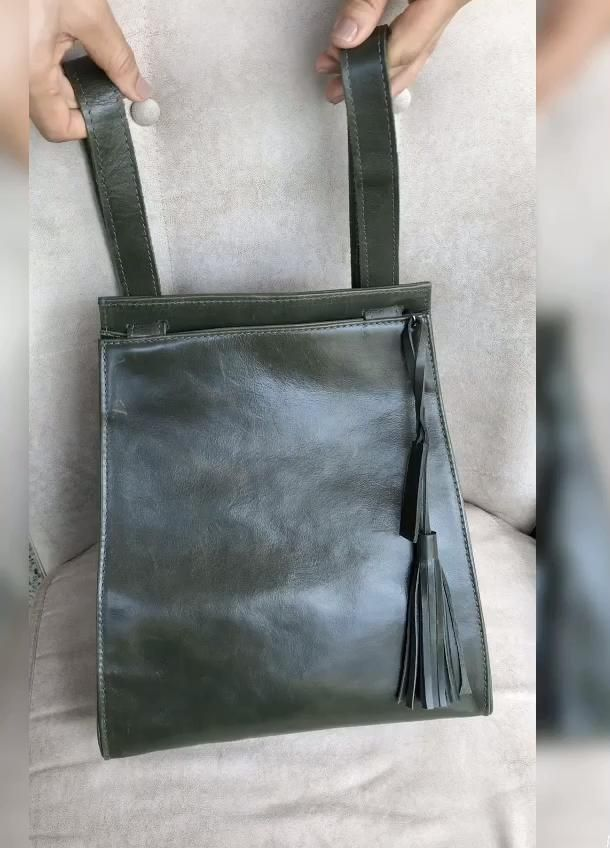cuero: (61, 22, 493, 759)
